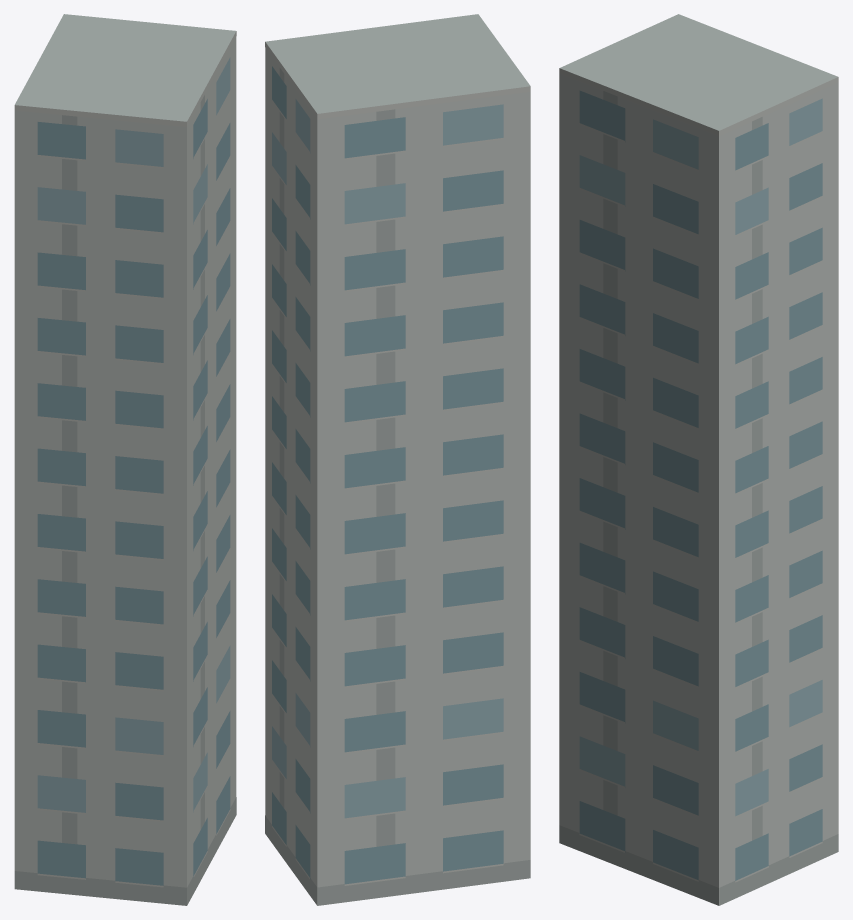
File: residential-e75b8ba9-8eee-4e2c-80df-9654988c8c96.glb
3 views of the same model, side by side, from view 1: azimuth 30°, elevation 25°; view 2: azimuth 150°, elevation 25°; view 3: azimuth 270°, elevation 25° (orthographic). The views are drawn at different scales.
Visible parts, largest first — view 1: residential-e75b8ba9-8eee-4e2c-80df-9654988c8c96.tmp; view 2: residential-e75b8ba9-8eee-4e2c-80df-9654988c8c96.tmp; view 3: residential-e75b8ba9-8eee-4e2c-80df-9654988c8c96.tmp.
Boxes of the visible parts, x1,y1,x2,y2 form: residential-e75b8ba9-8eee-4e2c-80df-9654988c8c96.tmp: [14, 14, 236, 905]; residential-e75b8ba9-8eee-4e2c-80df-9654988c8c96.tmp: [265, 14, 530, 905]; residential-e75b8ba9-8eee-4e2c-80df-9654988c8c96.tmp: [559, 14, 838, 905].
Bounding box in the file's own units: 11.33 × 35 × 11.43.
